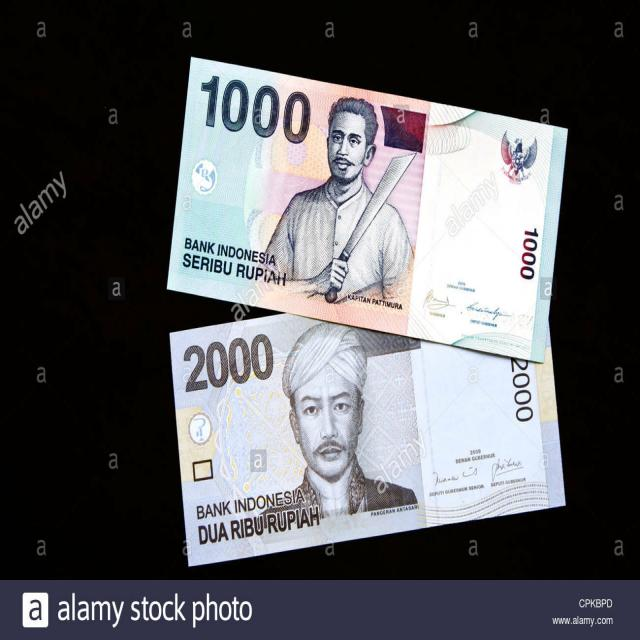1000IndonesianRupiah: (160, 60, 567, 338)
